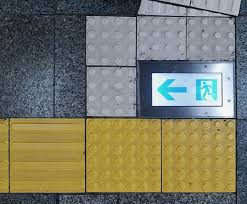guide_blocks: (1, 119, 236, 192)
